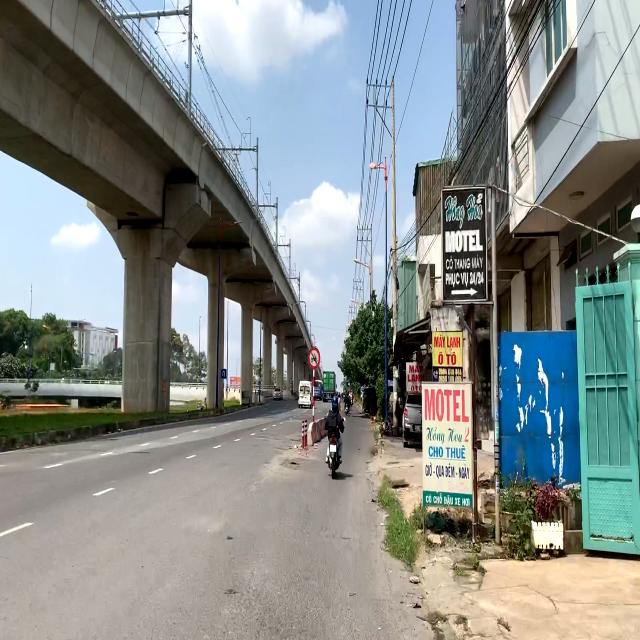P.104: (308, 347, 320, 369)
R.409: (221, 369, 227, 379)
